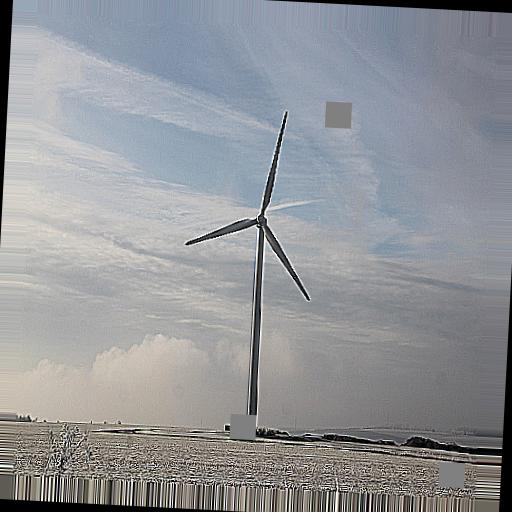wind turbine: (184, 109, 312, 432)
